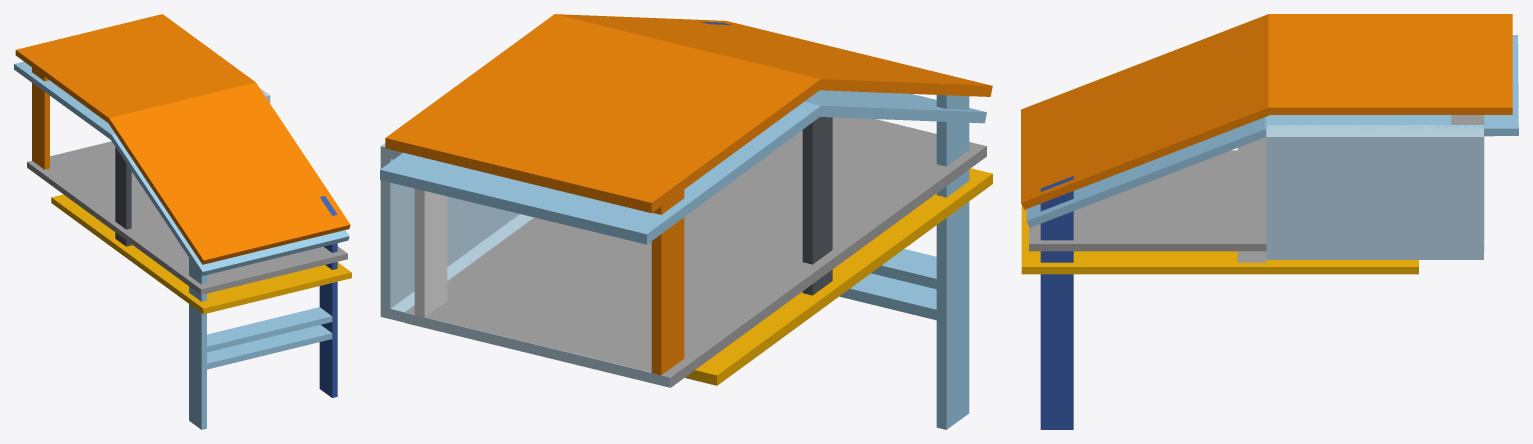
The model's file is R2-NO-A-old.dae.
3 renders of one model, left to right at view 1: azimuth 30°, elevation 25°; view 2: azimuth 150°, elevation 25°; view 3: azimuth 270°, elevation 25°, orthographic. The views are drawn at different scales.
Visible parts, largest first — view 1: node3, node8, node1, node0, node7, node2, node4, node9; view 2: node3, node8, node7, node1, node6, node0, node4, node9, node5, node11; view 3: node3, node6, node8, node7, node0, node2, node10.
Part boxes in pixels (<box>): node3: <box>15,14,350,264</box>; node8: <box>27,141,347,294</box>; node1: <box>189,258,332,429</box>; node0: <box>51,194,351,314</box>; node7: <box>14,61,349,276</box>; node2: <box>319,196,337,397</box>; node4: <box>32,67,49,169</box>; node9: <box>115,147,131,246</box>; node3: <box>385,14,992,213</box>; node8: <box>405,117,986,387</box>; node7: <box>380,90,986,244</box>; node1: <box>839,95,969,429</box>; node6: <box>380,143,533,322</box>; node0: <box>685,168,992,385</box>; node4: <box>651,190,684,375</box>; node9: <box>802,117,832,295</box>; node5: <box>414,188,447,317</box>; node11: <box>404,312,670,387</box>; node3: <box>1021,14,1512,209</box>; node6: <box>1266,125,1483,259</box>; node8: <box>1029,150,1266,251</box>; node7: <box>1026,35,1518,227</box>; node0: <box>1021,205,1418,274</box>; node2: <box>1040,176,1073,429</box>; node10: <box>1237,137,1266,262</box>.
Bounding box in the file's own units: 0.2954 × 0.6066 × 0.4382.
